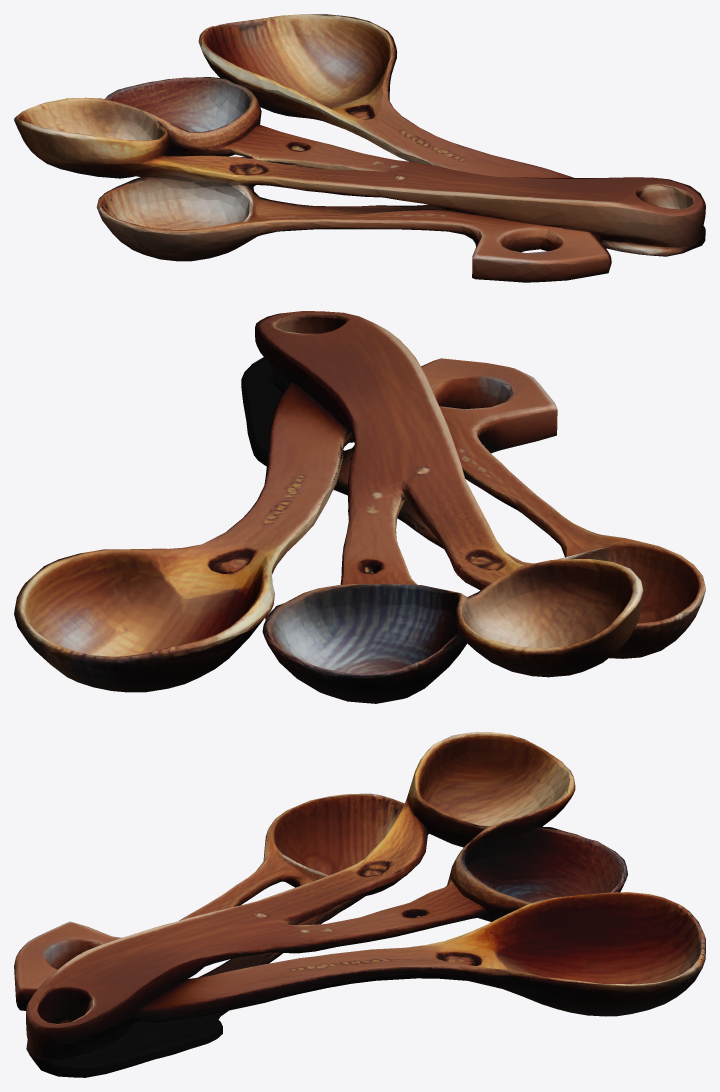
Rendered from wooden-measuring-spoons-rustic.jpeg.glb.
The picture shows the model from 3 angles, top to bottom: view 1: azimuth 30°, elevation 25°; view 2: azimuth 150°, elevation 25°; view 3: azimuth 270°, elevation 25°; orthographic projection. The views are drawn at different scales.
Visible parts, largest first — view 1: world; view 2: world; view 3: world.
Part boxes in pixels (left/top/right/bottom): world: left=14, top=14, right=705, bottom=282; world: left=14, top=311, right=705, bottom=703; world: left=14, top=732, right=705, bottom=1077.
Bounding box in the file's own units: 0.8762 × 0.1766 × 1.
1 material, 1 textured.
